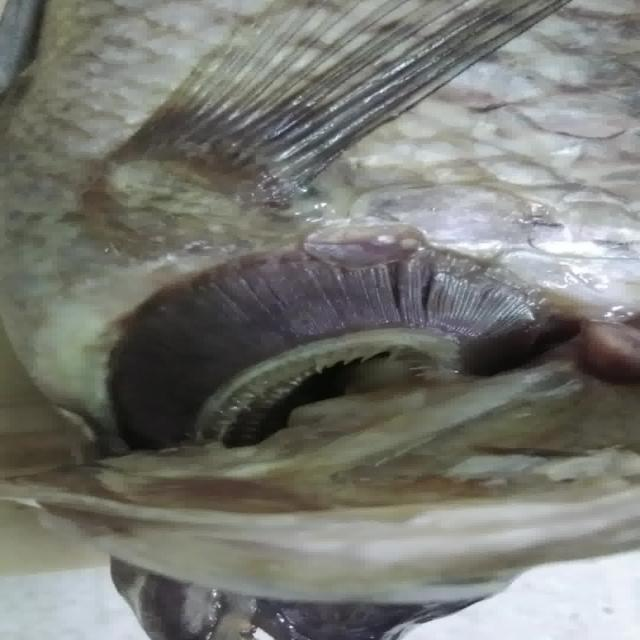Non-Fresh: (89, 232, 569, 456)
